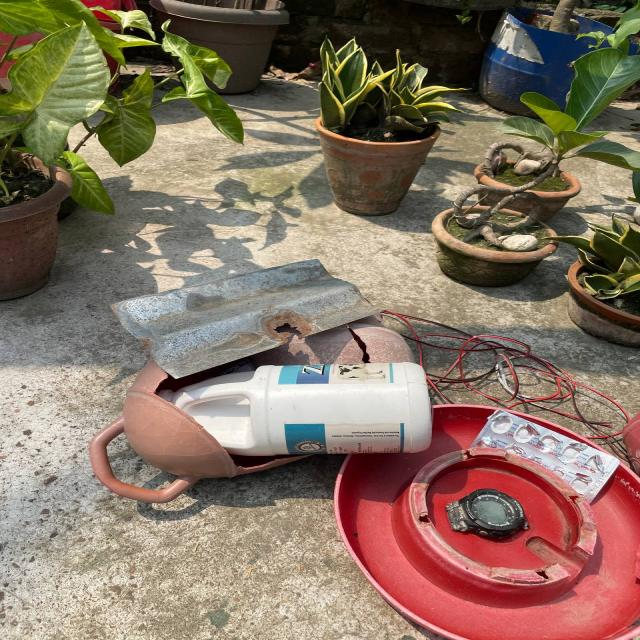Cable: (420, 303, 632, 428)
E-waste: (442, 480, 533, 547)
Metal: (95, 252, 409, 374)
Plastics: (84, 358, 422, 604), (338, 557, 639, 640)
